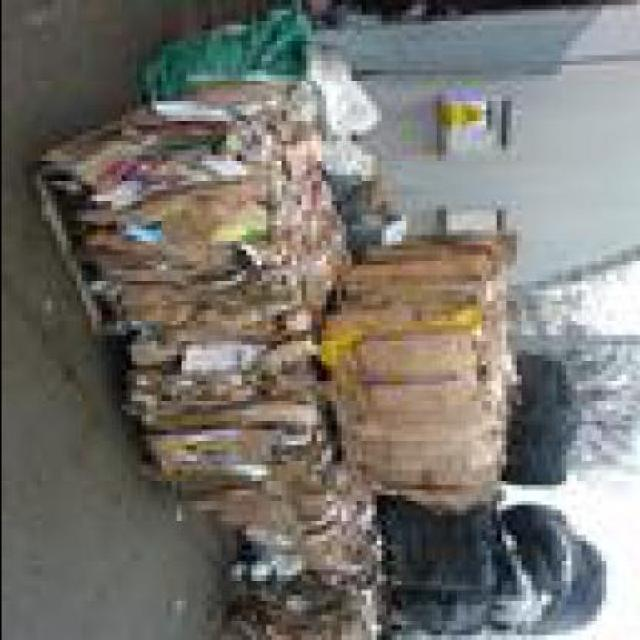CARDBOARD: (50, 70, 350, 325), (125, 205, 360, 510), (330, 220, 525, 500), (330, 300, 505, 500), (230, 495, 390, 580), (130, 166, 275, 254), (189, 454, 340, 526), (230, 570, 385, 635), (310, 54, 390, 126), (345, 175, 410, 240), (320, 130, 380, 190)
PLASTIC: (490, 494, 610, 634), (396, 500, 516, 635), (150, 5, 325, 90), (505, 350, 580, 481)
